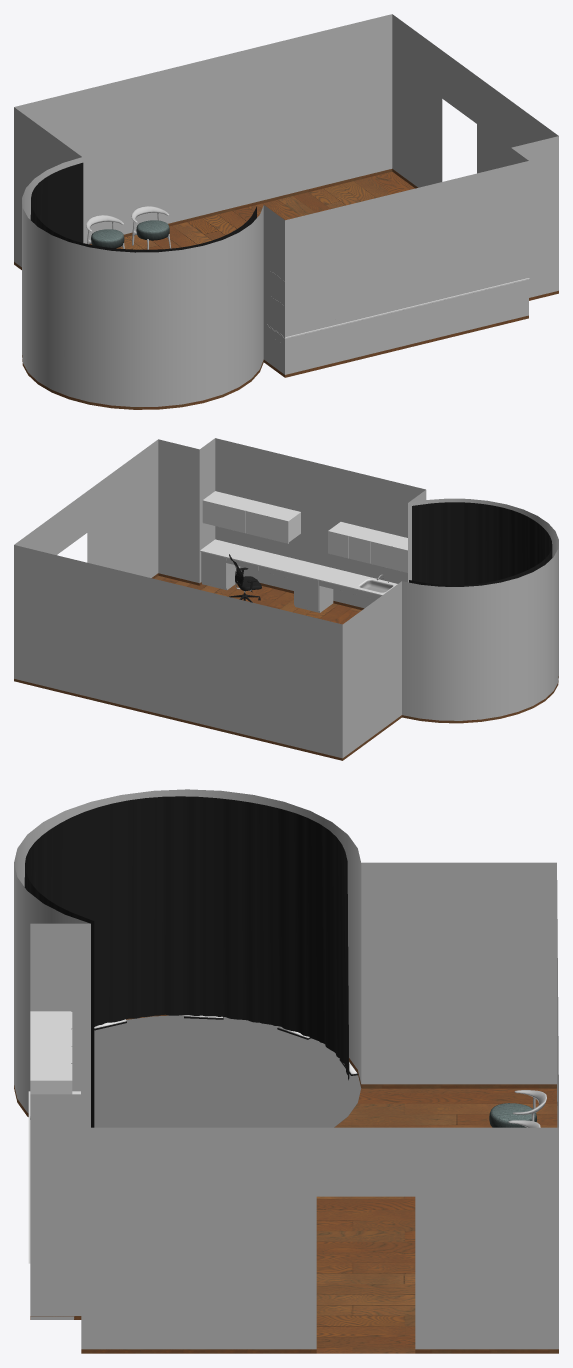
The model's file is ProtoRoomV2.fbx.
The picture shows the model from 3 angles, top to bottom: view 1: azimuth 30°, elevation 25°; view 2: azimuth 150°, elevation 25°; view 3: azimuth 270°, elevation 25°; orthographic projection. The views are drawn at different scales.
Visible parts, largest first — view 1: Floor, Curtain, Chair, Chair.001, Desk; view 2: Floor, Desk, Curtain, OfficeChair; view 3: Floor, Curtain, Desk, Chair.001.
Part boxes in pixels (<box>): Floor: <box>14,14,558,409</box>; Curtain: <box>30,162,256,252</box>; Chair: <box>131,206,171,249</box>; Chair.001: <box>86,215,124,248</box>; Desk: <box>267,278,529,338</box>; Floor: <box>14,438,558,760</box>; Desk: <box>200,491,407,612</box>; Curtain: <box>409,502,552,586</box>; OfficeChair: <box>229,554,261,602</box>; Floor: <box>14,789,558,1353</box>; Curtain: <box>24,796,349,1127</box>; Desk: <box>28,1011,80,1319</box>; Chair.001: <box>489,1090,546,1127</box>.
Size of the model in its own units: 948 by 295 by 645.
